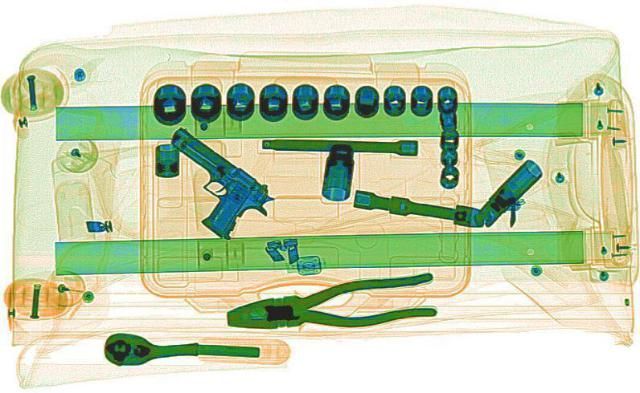Gun: (112, 126, 294, 237)
Pliers: (214, 271, 446, 340)
